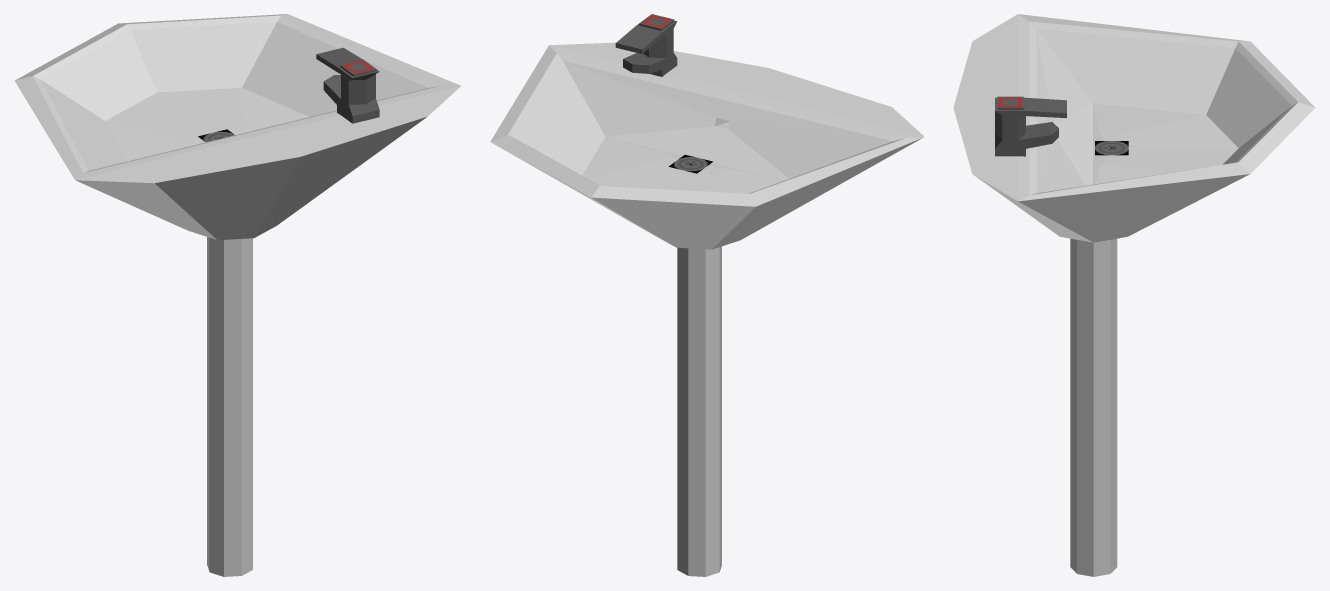
The model's file is sink2.glb.
3 views of the same model, side by side, from view 1: azimuth 30°, elevation 25°; view 2: azimuth 150°, elevation 25°; view 3: azimuth 270°, elevation 25° (orthographic). The views are drawn at different scales.
Parts seen in each view (by area): view 1: Sink.001, Sink, Taps.001; view 2: Sink.001, Sink, Taps.001; view 3: Sink.001, Sink, Taps.001, Sinkhole.
Part boxes in pixels (left/top/right/bottom): Sink.001: left=14, top=14, right=460, bottom=576; Sink: left=75, top=86, right=460, bottom=182; Taps.001: left=316, top=47, right=379, bottom=123; Sink.001: left=490, top=42, right=924, bottom=576; Sink: left=550, top=42, right=922, bottom=135; Taps.001: left=615, top=14, right=677, bottom=76; Sink.001: left=953, top=14, right=1315, bottom=576; Sink: left=954, top=14, right=1017, bottom=200; Taps.001: left=995, top=96, right=1066, bottom=156; Sinkhole: left=1095, top=141, right=1128, bottom=155.
Bounding box in the file's own units: 1.73 × 2.19 × 1.42.
Materials: 5 (1 with a texture image).
